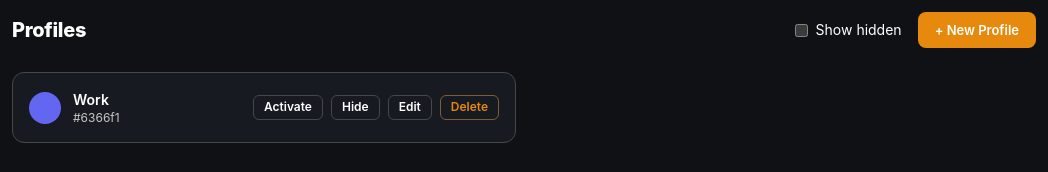
Profiles page › hides hidden profiles by default and reveals them with toggle
Expected: the heading "Work" is shown, [73,89,109,110]
Expected: the text "Home" is not shown
Click the checkbox at point(801, 30), box [795,24,808,37]
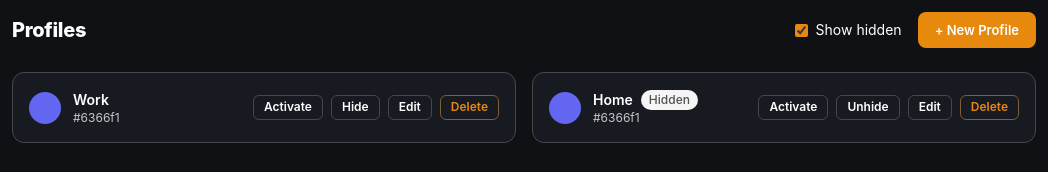
Now the heading "Home" is shown, box [593,89,633,110]
